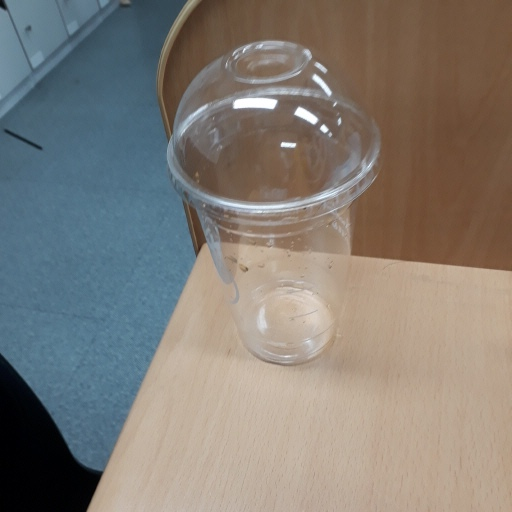Plastic_2: (167, 38, 382, 366)
